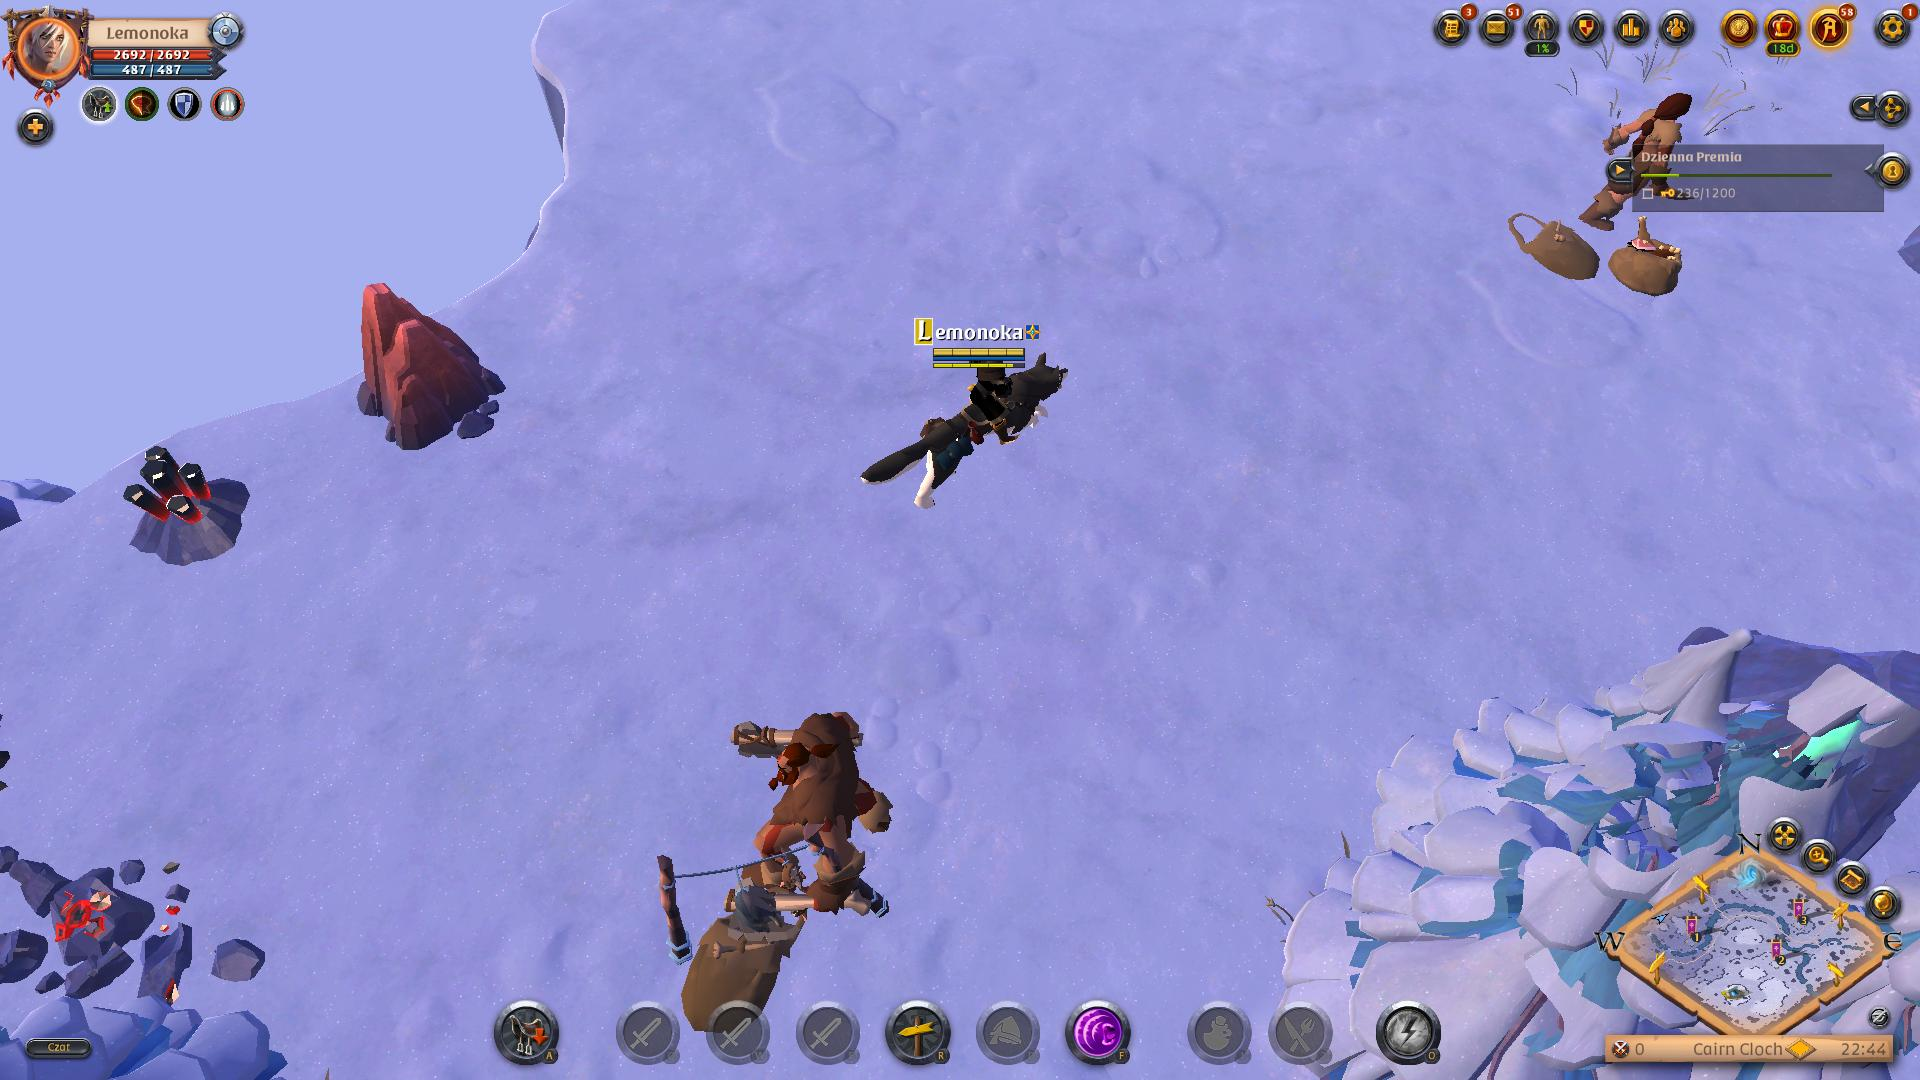ore tier 5: (119, 451, 255, 568)
rock tier 5: (353, 278, 505, 454)
